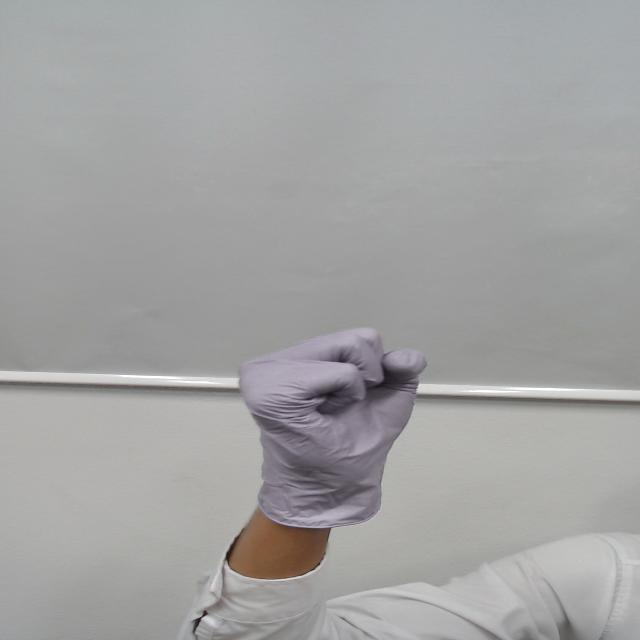glove: (221, 312, 443, 471)
